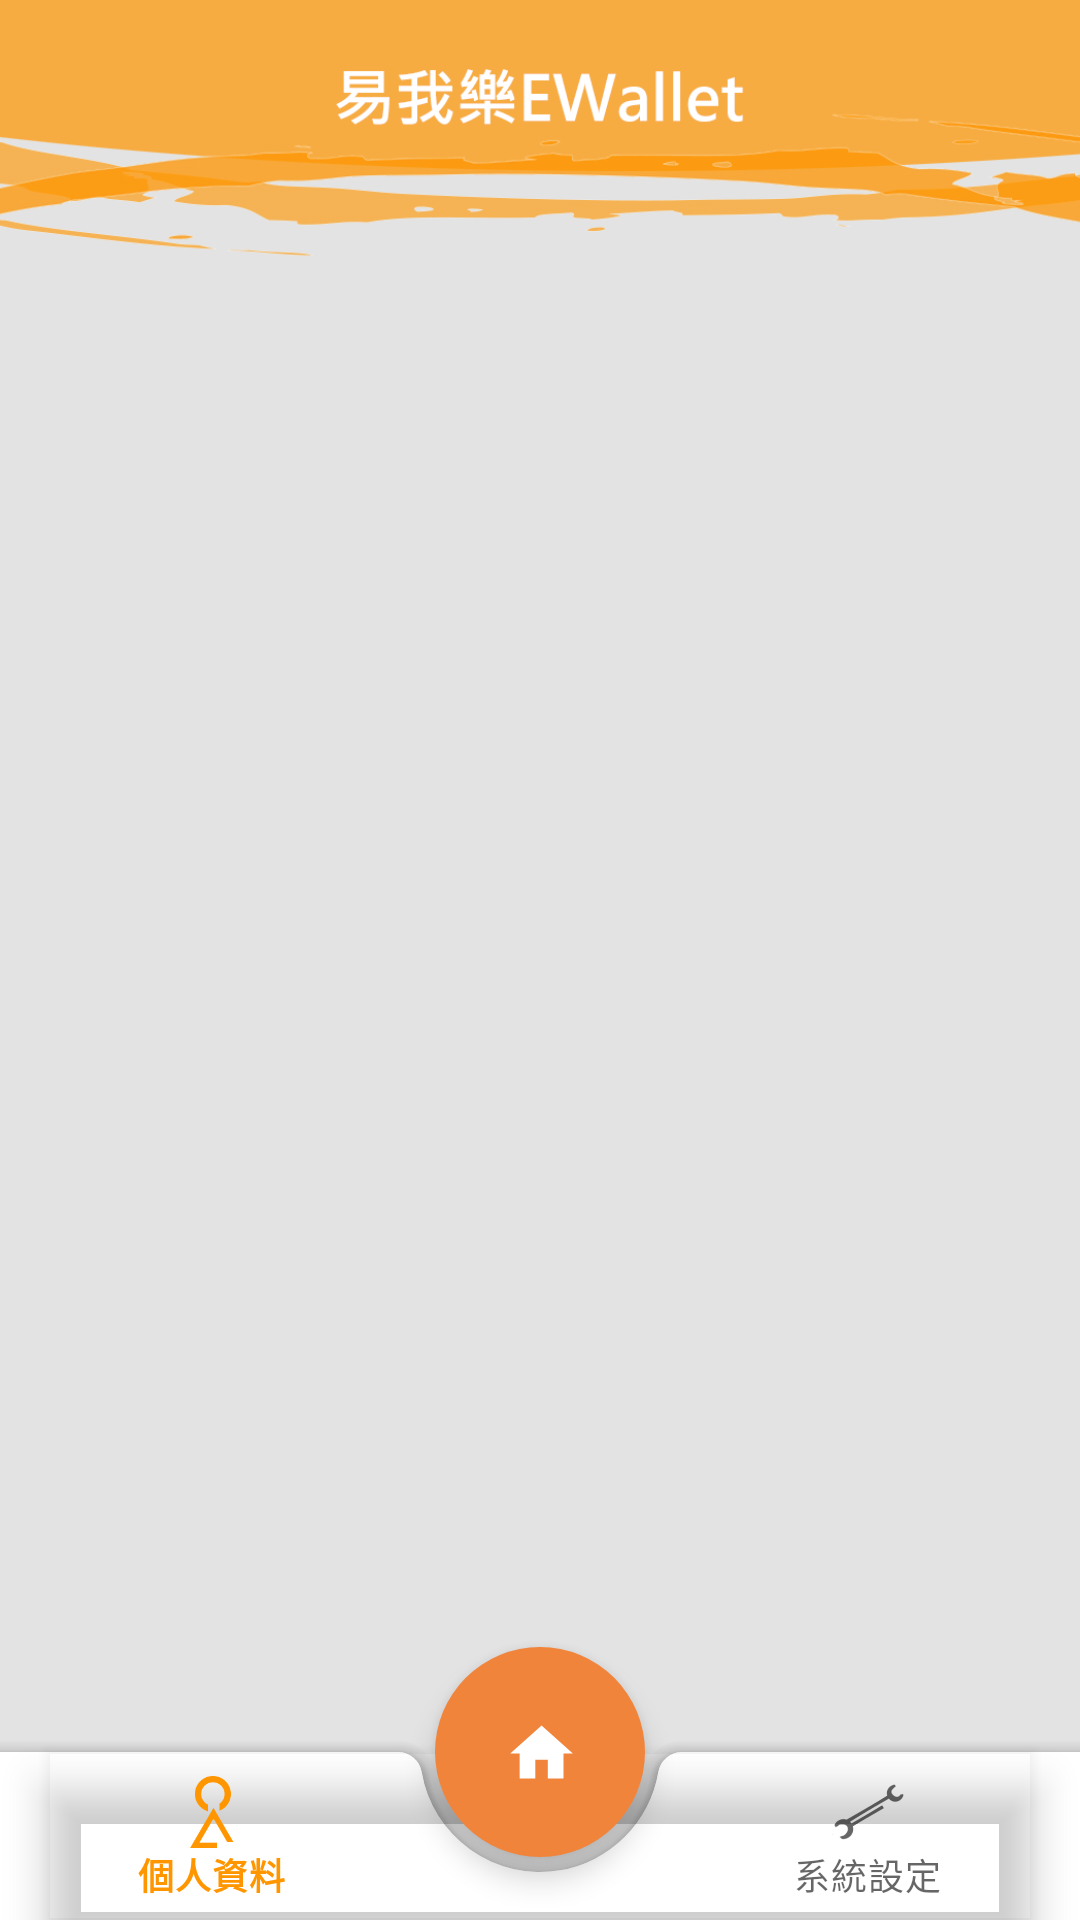

Point at icon controls on the screen. Image size 1080 x 1920, points as (x=x, y=y).
ew home: (x=540, y=1752)
